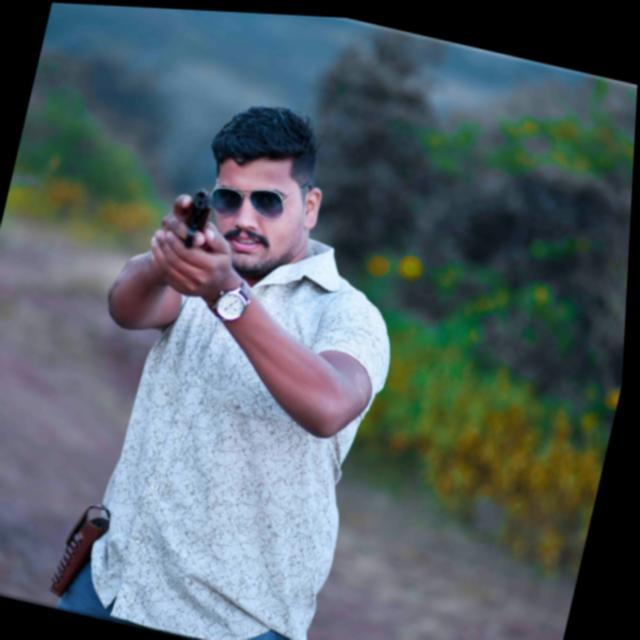weapon: (156, 175, 236, 298)
